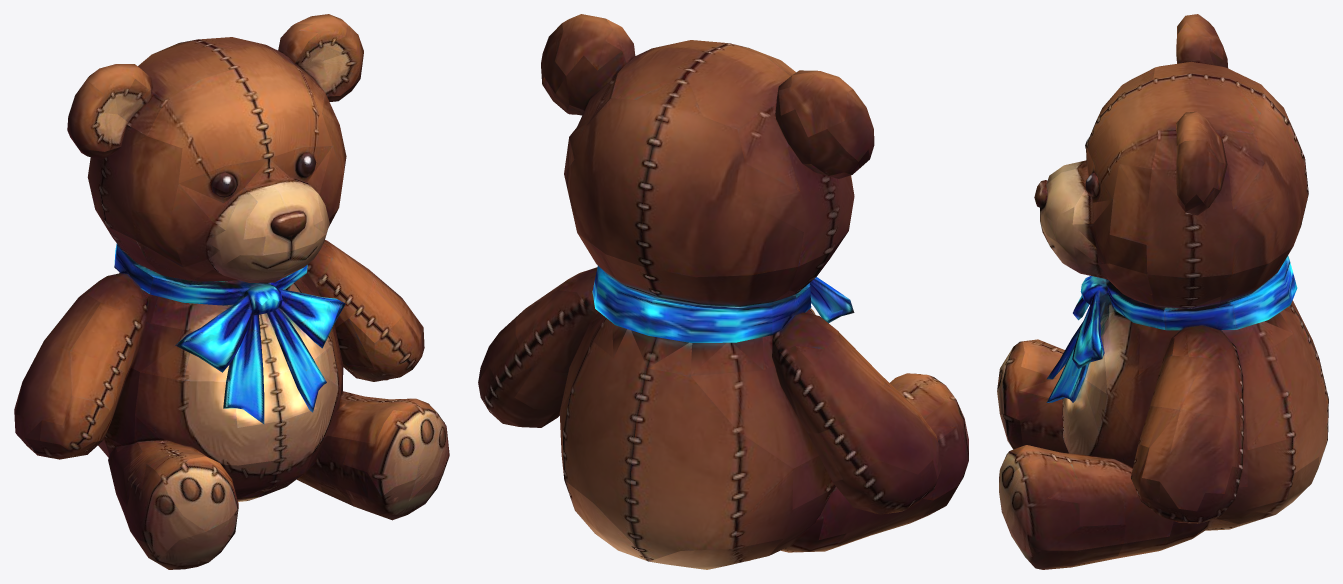
File: consolation_prize.glb
3 views of the same model, side by side, from view 1: azimuth 30°, elevation 25°; view 2: azimuth 150°, elevation 25°; view 3: azimuth 270°, elevation 25° (orthographic). The views are drawn at different scales.
Bounding box in the file's own units: 0.9355 × 1 × 0.6777.
Materials: 1 (1 with a texture image).
